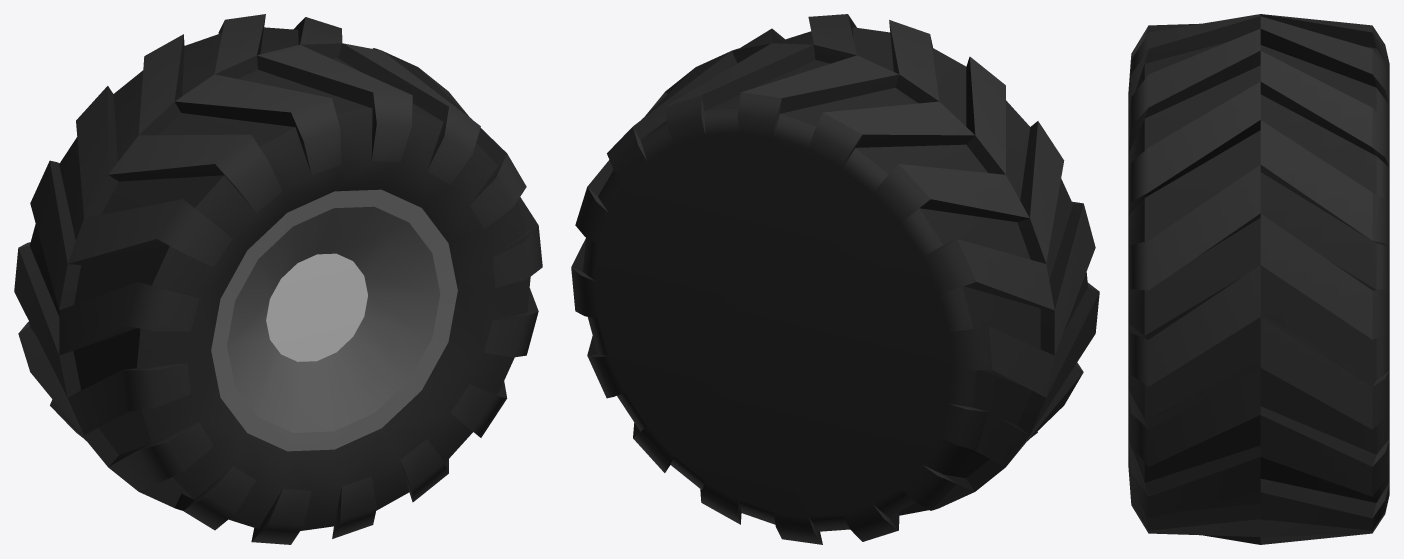
Rendered from wheel_04.fbx.
3 renders of one model, left to right at view 1: azimuth 30°, elevation 25°; view 2: azimuth 150°, elevation 25°; view 3: azimuth 270°, elevation 25°, orthographic. The views are drawn at different scales.
Visible parts, largest first — view 1: wheel_04; view 2: wheel_04; view 3: wheel_04.
Part boxes in pixels (box(x1,y1,x2,y2)): wheel_04: box(14, 14, 542, 544); wheel_04: box(571, 14, 1099, 544); wheel_04: box(1128, 14, 1389, 544).
Bounding box in the file's own units: 114 × 114 × 56.41.
